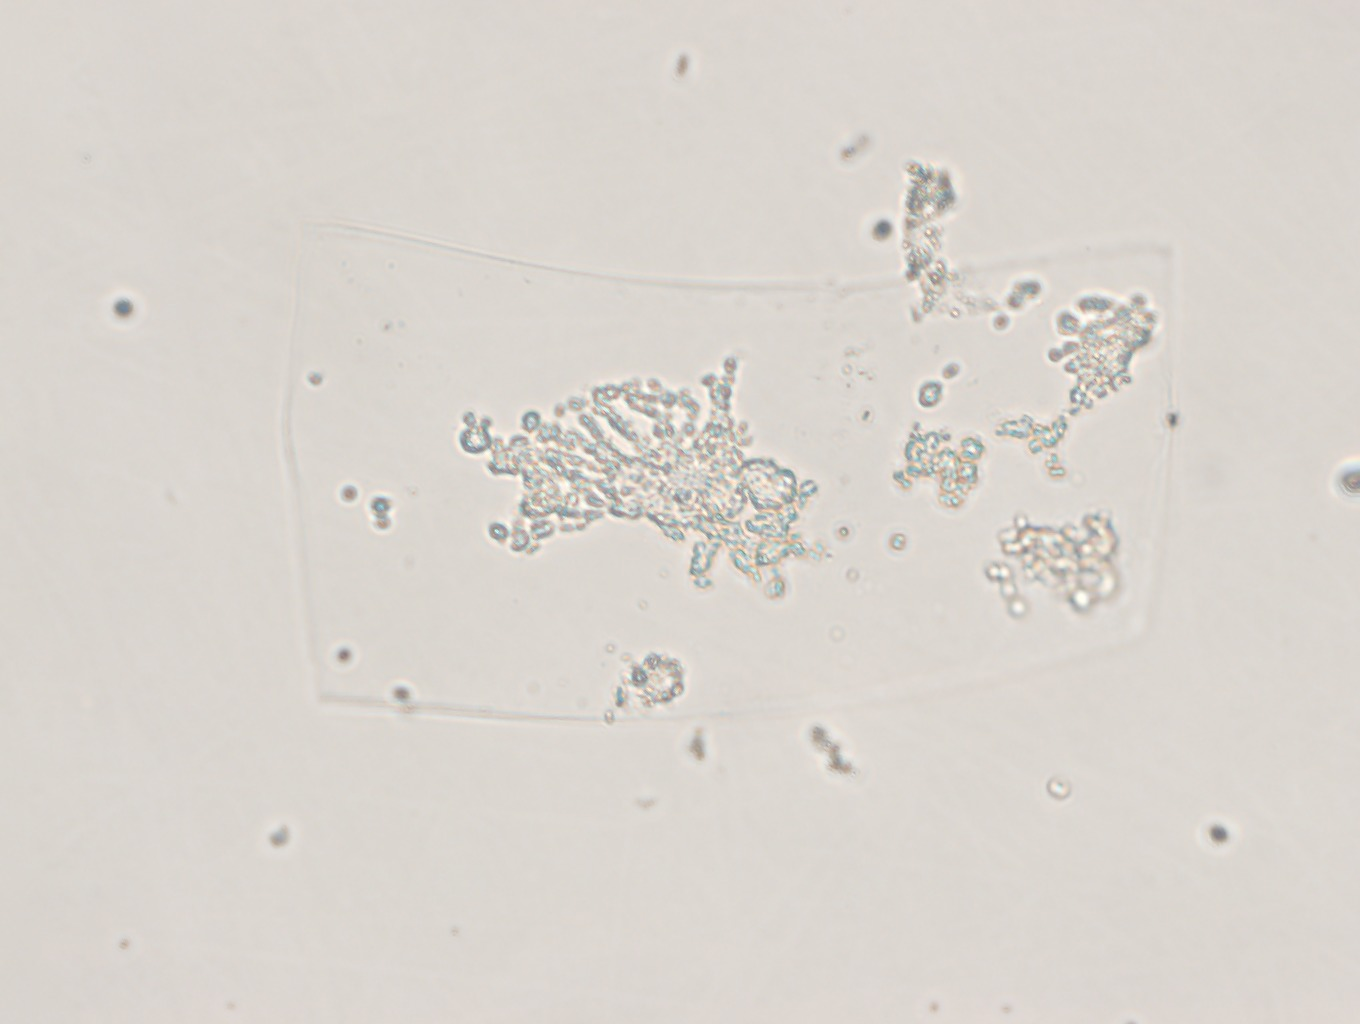helicotheca: (266, 207, 1190, 733)
